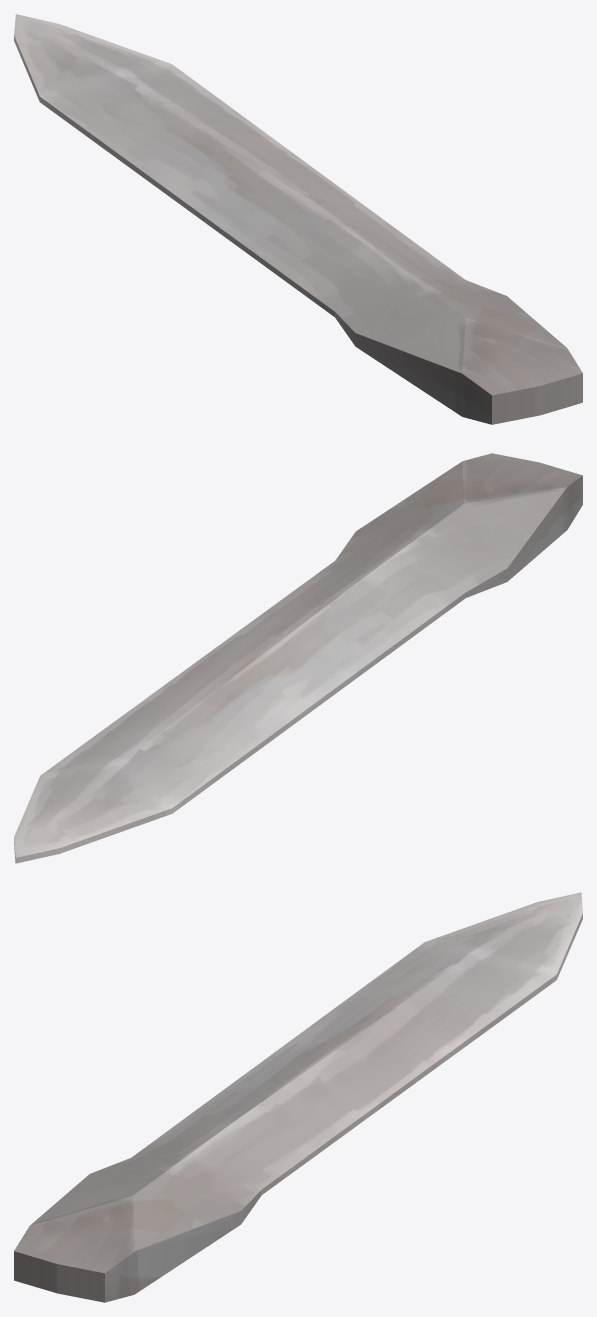
File: blade4.FBX
3 views of the same model, one above another, from view 1: azimuth 30°, elevation 25°; view 2: azimuth 150°, elevation 25°; view 3: azimuth 330°, elevation 25° (orthographic).
Visible parts, largest first — view 1: blade004; view 2: blade004; view 3: blade004.
Part boxes in pixels (left/top/right/bottom): blade004: left=14, top=14, right=582, bottom=424; blade004: left=14, top=453, right=582, bottom=863; blade004: left=14, top=892, right=582, bottom=1302.
Bounding box in the file's own units: 0.1724 × 1.03 × 0.0611.
